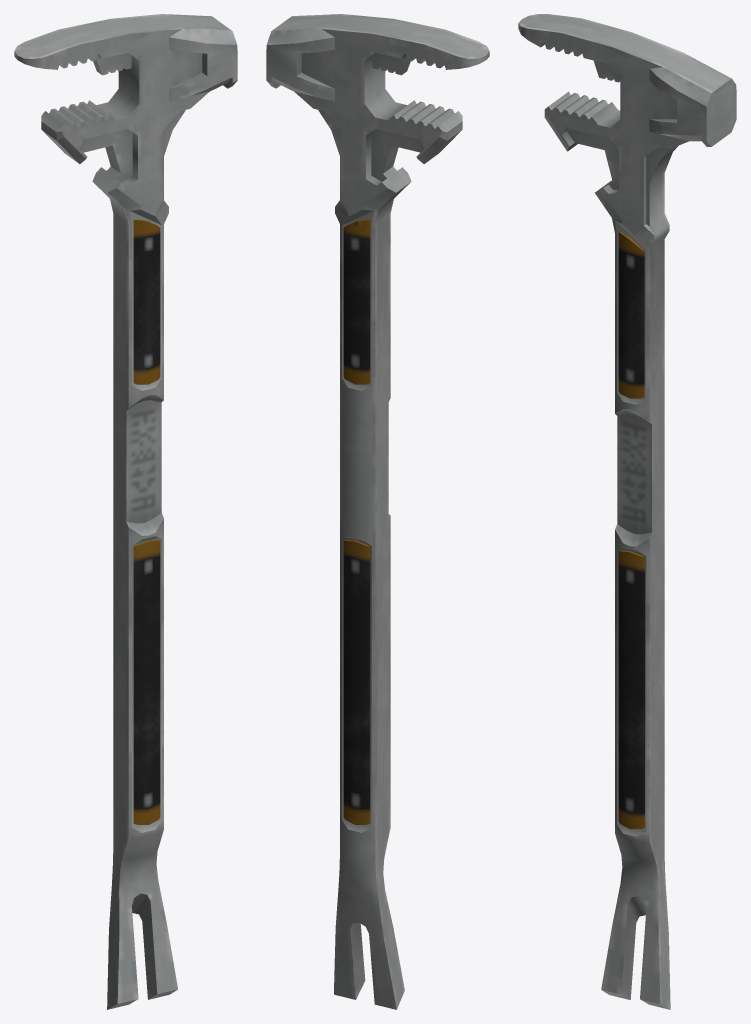
Rendered from fubar.obj.
3 renders of one model, left to right at view 1: azimuth 30°, elevation 25°; view 2: azimuth 150°, elevation 25°; view 3: azimuth 330°, elevation 25°, orthographic. The views are drawn at different scales.
Parts seen in each view (by area): view 1: fubar, fubar.001; view 2: fubar, fubar.001; view 3: fubar, fubar.001.
Boxes of the visible parts, <box> form: fubar: <box>14,14,237,1009</box>; fubar.001: <box>133,219,160,824</box>; fubar: <box>266,14,489,1009</box>; fubar.001: <box>343,219,370,824</box>; fubar: <box>518,14,736,1009</box>; fubar.001: <box>618,231,644,829</box>.
Bounding box in the file's own units: 0.3063 × 1.4 × 0.0797.
